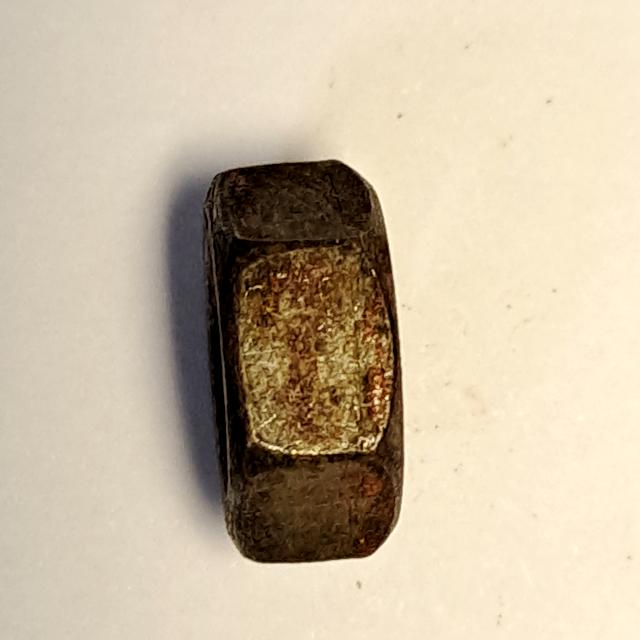Side_Rust: (181, 150, 440, 583)
